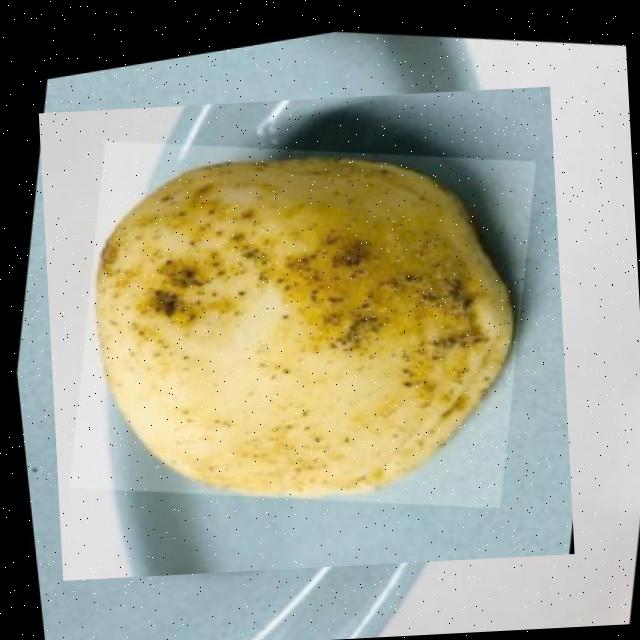Potato: (38, 86, 574, 580)
